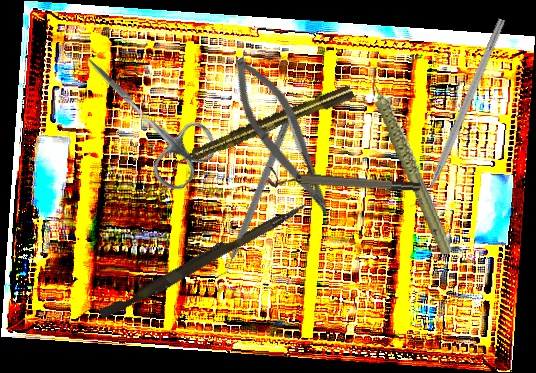Chopper: (406, 13, 507, 214), (209, 107, 295, 283)
Fixation Ring: (266, 166, 422, 201)
Handpiece: (367, 59, 455, 262), (168, 82, 356, 173)
Iris Scissors: (60, 34, 225, 198)
Micro Scissor: (216, 48, 352, 222)
Pusher: (98, 193, 309, 326)
